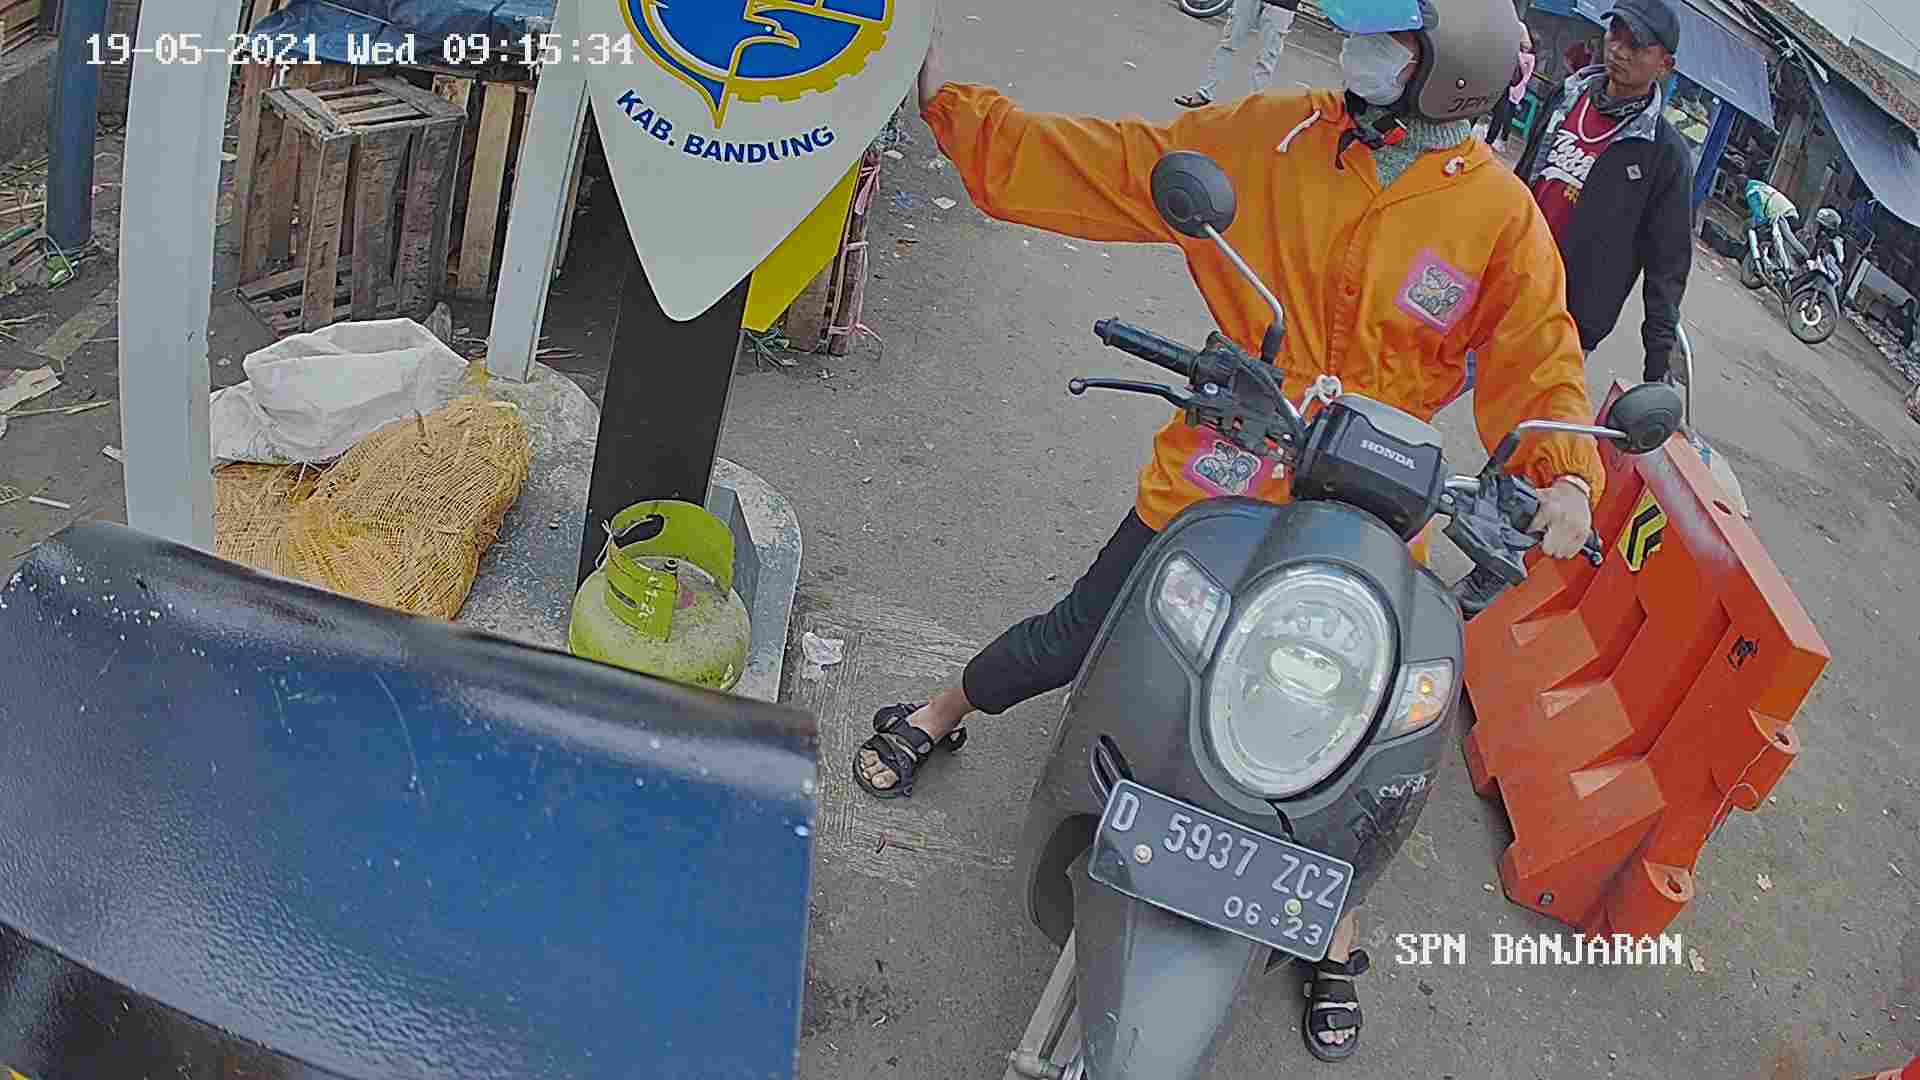motor: (1027, 290, 1522, 1080)
